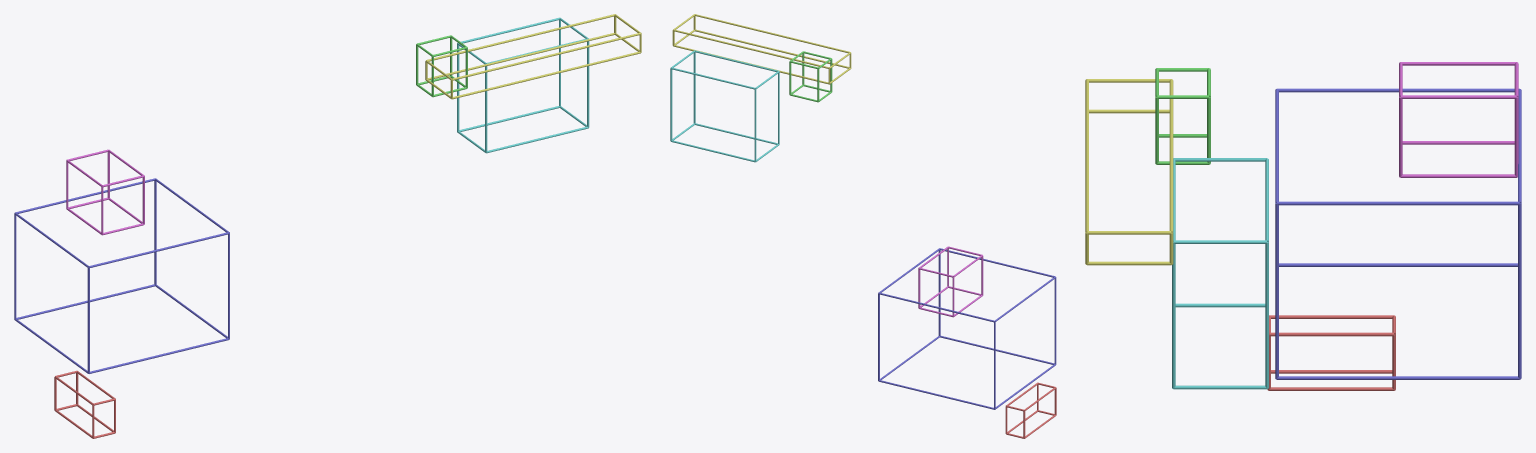
The picture shows the model from 3 angles, left to right: view 1: azimuth 30°, elevation 25°; view 2: azimuth 150°, elevation 25°; view 3: azimuth 270°, elevation 25°; orthographic projection. The views are drawn at different scales.
Parts seen in each view (by area): view 1: world; view 2: world; view 3: world.
Part boxes in pixels (x1,y1,x2,y2): world: (14,14,641,438); world: (670,14,1056,438); world: (1085,62,1521,390).
Bounding box in the file's own units: 2.53 × 1.63 × 1.17.
